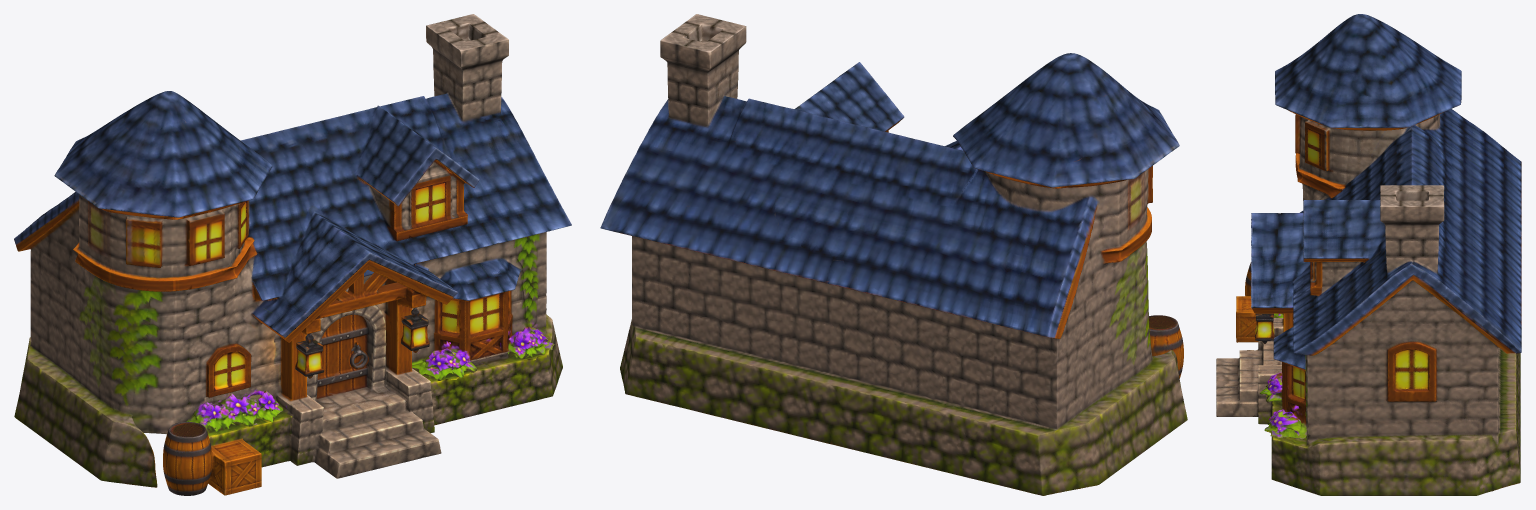
File: casa2.glb
3 views of the same model, side by side, from view 1: azimuth 30°, elevation 25°; view 2: azimuth 150°, elevation 25°; view 3: azimuth 270°, elevation 25° (orthographic). The views are drawn at different scales.
Bounding box in the file's own units: 1.88 × 1.36 × 1.19.
1 material, 1 textured.
